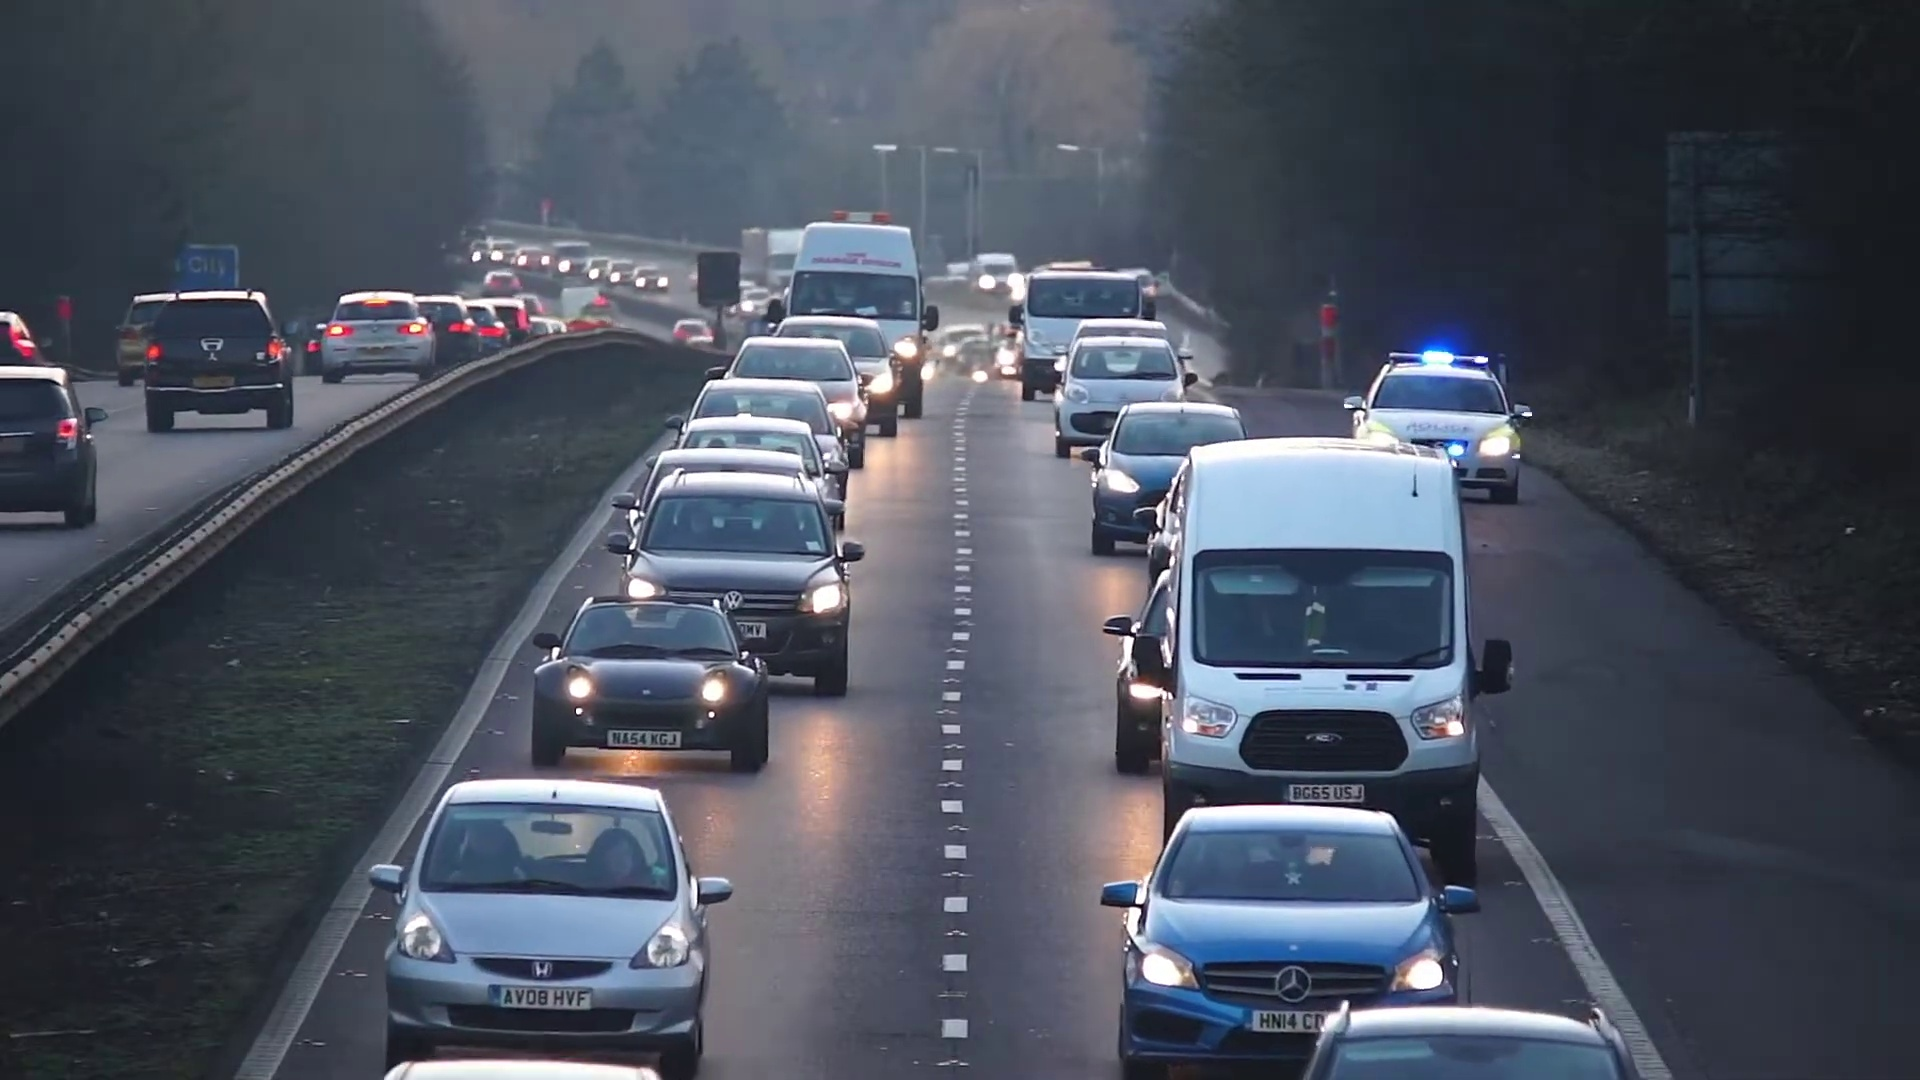license_plate: (486, 982, 593, 1010), (1248, 1007, 1331, 1033), (602, 725, 685, 751), (1280, 779, 1368, 803)
